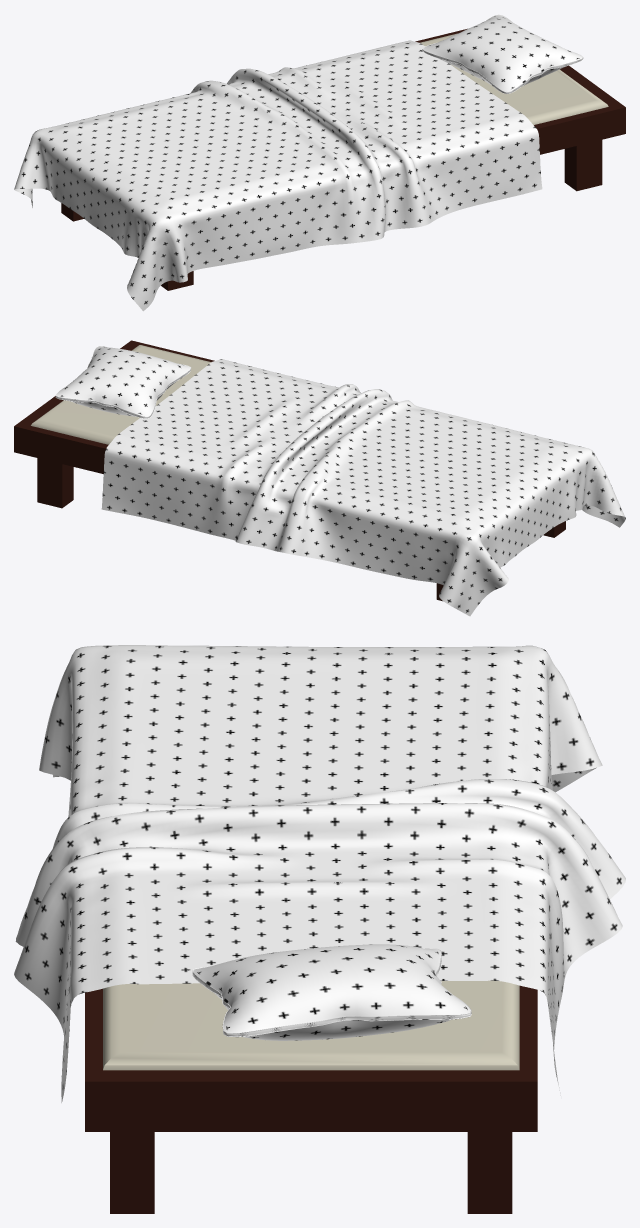
Rendered from bed.fbx.
3 renders of one model, top to bottom at view 1: azimuth 30°, elevation 25°; view 2: azimuth 150°, elevation 25°; view 3: azimuth 270°, elevation 25°, orthographic. The views are drawn at different scales.
Visible parts, largest first — view 1: bed_combined; view 2: bed_combined; view 3: bed_combined.
Part boxes in pixels (x1=…): bed_combined: x1=14, y1=14, x2=625, y2=311; bed_combined: x1=14, y1=340, x2=625, y2=616; bed_combined: x1=14, y1=645, x2=625, y2=1213.
Size of the model in its own units: 14.58 by 3.21 by 8.18.
3 materials, 1 textured.
